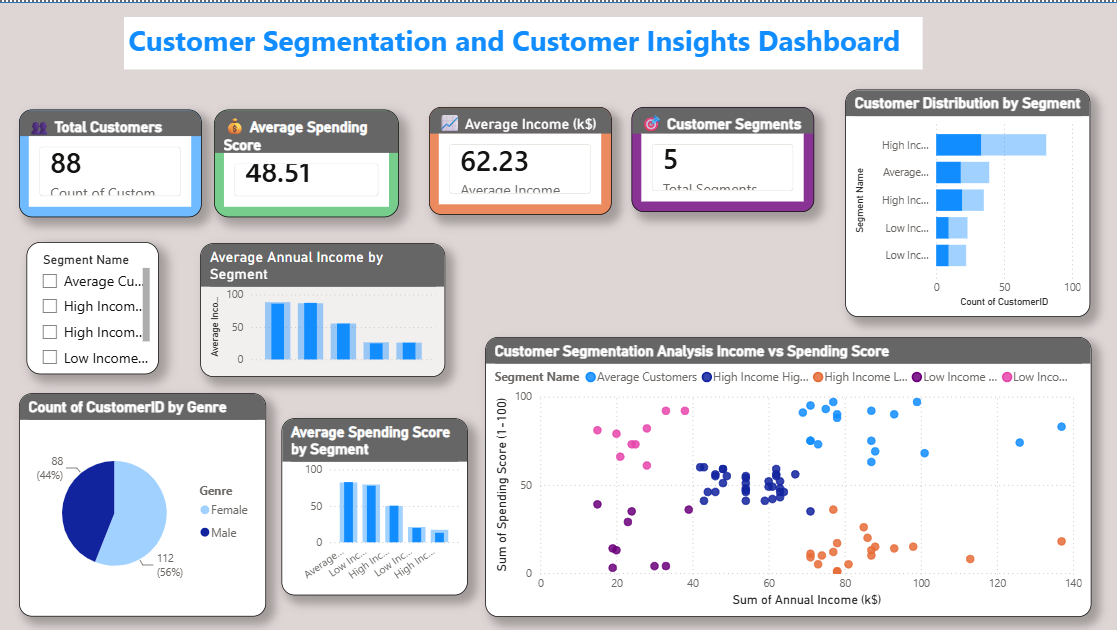

The page's visual inventory and layout, read from the dashboard file:
{"tool":"powerbi","page":{"name":"Page 1","canvas":[1280,720],"ordinal":0},"visuals":[{"type":"clusteredBarChart","fields":{"Category":["Customer_Segments_Output.Segment Name"],"Y":["CountNonNull(Customer_Segments_Output.CustomerID)"]},"box":[986.7,103.3,280,280],"z":0},{"type":"cardVisual","fields":{"Data":["CountNonNull(Customer_Segments_Output.CustomerID)"]},"box":[23.3,103.3,206.7,133.3],"z":1000},{"type":"cardVisual","fields":{"Data":["Customer_Segments_Output.Average Income"]},"box":[526.7,96.7,206.7,150],"z":2000},{"type":"cardVisual","fields":{"Data":["Customer_Segments_Output.Average Spending"]},"box":[280,96.7,210,146.7],"z":3000},{"type":"pieChart","fields":{"Category":["Customer_Segments_Output.Genre"],"Y":["CountNonNull(Customer_Segments_Output.CustomerID)"]},"box":[0,438.6,281.4,281.4],"z":4000},{"type":"clusteredColumnChart","fields":{"Category":["Customer_Segments_Output.Segment Name"],"Y":["Customer_Segments_Output.Average Income"]},"box":[246.7,270,280,153.3],"z":5000},{"type":"clusteredColumnChart","fields":{"Category":["Customer_Segments_Output.Segment Name"],"Y":["Customer_Segments_Output.Average Spending"]},"box":[280,480,210,203.3],"z":6000},{"type":"scatterChart","fields":{"X":["Sum(Customer_Segments_Output.Annual Income (k$))"],"Y":["Sum(Customer_Segments_Output.Spending Score (1-100))"],"Series":["Customer_Segments_Output.Segment Name"],"Category":["Customer_Segments_Output.CustomerID"]},"box":[526.7,383.3,740,320],"z":7000},{"type":"textbox","box":[182.7,0,1082.7,107.7],"z":7001},{"type":"slicer","fields":{"Values":["Customer_Segments_Output.Segment Name"]},"box":[23.3,266.7,150,150],"z":7002},{"type":"cardVisual","fields":{"Data":["Customer_Segments_Output.Total Segments"]},"box":[796.7,113.3,150,116.7],"z":7003}]}

Visuals, with their boxes in screenshot pixels (x1, y1, x2, y2), scaled from the page's 1280x720 canvas onto the 1117x630 screenshot:
clusteredBarChart - Customer_Segments_Output.Segment Name x CountNonNull(Customer_Segments_Output.CustomerID): [861,90,1105,335]
cardVisual - CountNonNull(Customer_Segments_Output.CustomerID): [20,90,201,207]
cardVisual - Customer_Segments_Output.Average Income: [460,85,640,216]
cardVisual - Customer_Segments_Output.Average Spending: [244,85,428,213]
pieChart - Customer_Segments_Output.Genre x CountNonNull(Customer_Segments_Output.CustomerID): [0,384,246,629]
clusteredColumnChart - Customer_Segments_Output.Segment Name x Customer_Segments_Output.Average Income: [215,236,460,370]
clusteredColumnChart - Customer_Segments_Output.Segment Name x Customer_Segments_Output.Average Spending: [244,420,428,598]
scatterChart - Sum(Customer_Segments_Output.Annual Income (k$)) x Sum(Customer_Segments_Output.Spending Score (1-100)): [460,335,1105,615]
textbox: [159,0,1104,94]
slicer - Customer_Segments_Output.Segment Name: [20,233,151,365]
cardVisual - Customer_Segments_Output.Total Segments: [695,99,826,201]
